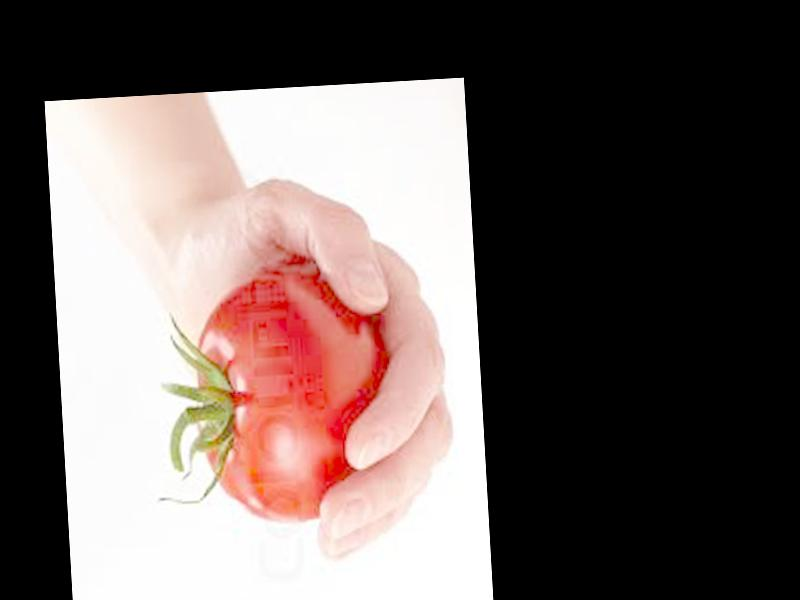Tomato: (188, 271, 394, 527)
